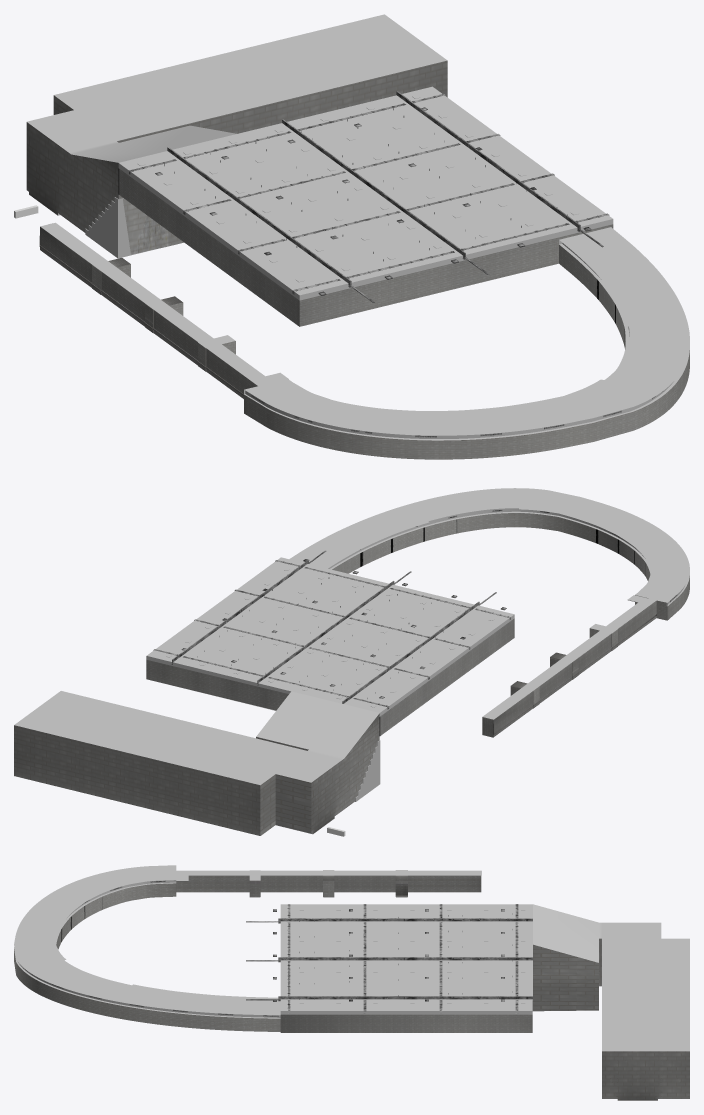
The model's file is lim.fbx.
3 views of the same model, one above another, from view 1: azimuth 30°, elevation 25°; view 2: azimuth 150°, elevation 25°; view 3: azimuth 270°, elevation 25° (orthographic). The views are drawn at different scales.
Parts seen in each view (by area): view 1: home.001, home, home.002, potolok, stolb.001; view 2: home.001, home.002, home, potolok, home.003, stolb.001; view 3: home.001, home, potolok, home.002, home.003, stolb.001.
Part boxes in pixels (x1=…): home.001: x1=27, y1=14, x2=689, y2=440; home: x1=39, y1=168, x2=689, y2=459; home.002: x1=26, y1=60, x2=447, y2=254; potolok: x1=129, y1=91, x2=609, y2=302; stolb.001: x1=137, y1=95, x2=579, y2=282; home.001: x1=14, y1=488, x2=689, y2=834; home.002: x1=14, y1=713, x2=379, y2=835; home: x1=146, y1=513, x2=689, y2=737; potolok: x1=153, y1=550, x2=510, y2=709; home.003: x1=260, y1=774, x2=311, y2=835; stolb.001: x1=166, y1=568, x2=494, y2=707; home.001: x1=14, y1=865, x2=689, y2=1051; home: x1=14, y1=870, x2=532, y2=1032; potolok: x1=246, y1=904, x2=532, y2=1013; home.002: x1=532, y1=938, x2=689, y2=1100; home.003: x1=532, y1=944, x2=598, y2=1011; stolb.001: x1=299, y1=908, x2=525, y2=1003.
Size of the model in its own units: 16229 by 3260 by 26780.
